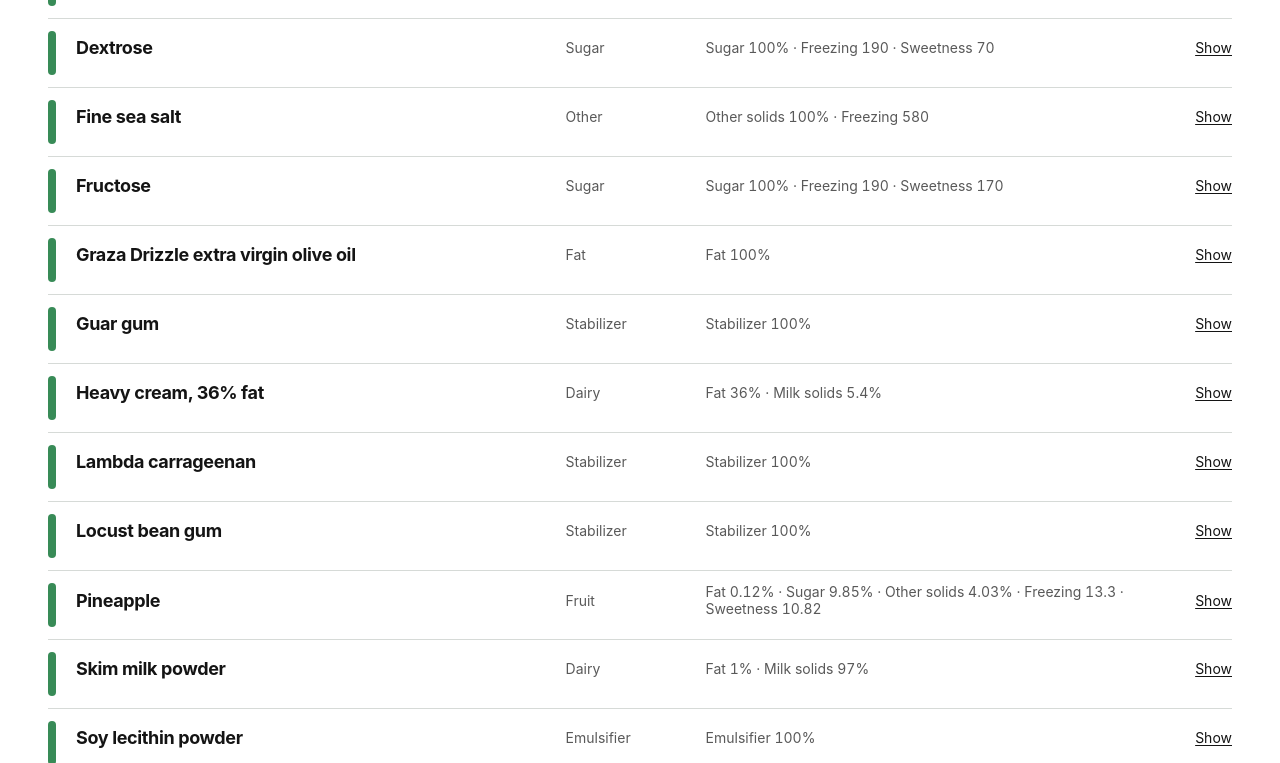
Test: opening an entry › Heavy cream: Fat 36% derived with its source, Milk solids · MSNF 5.4% estimated with not recorded, the facts and the lactose line
(page scrolled)
Click the button with class "ing__head" showing "Heavy cream, 36% fat Show" at (170, 392), box [76,370,1232,414]
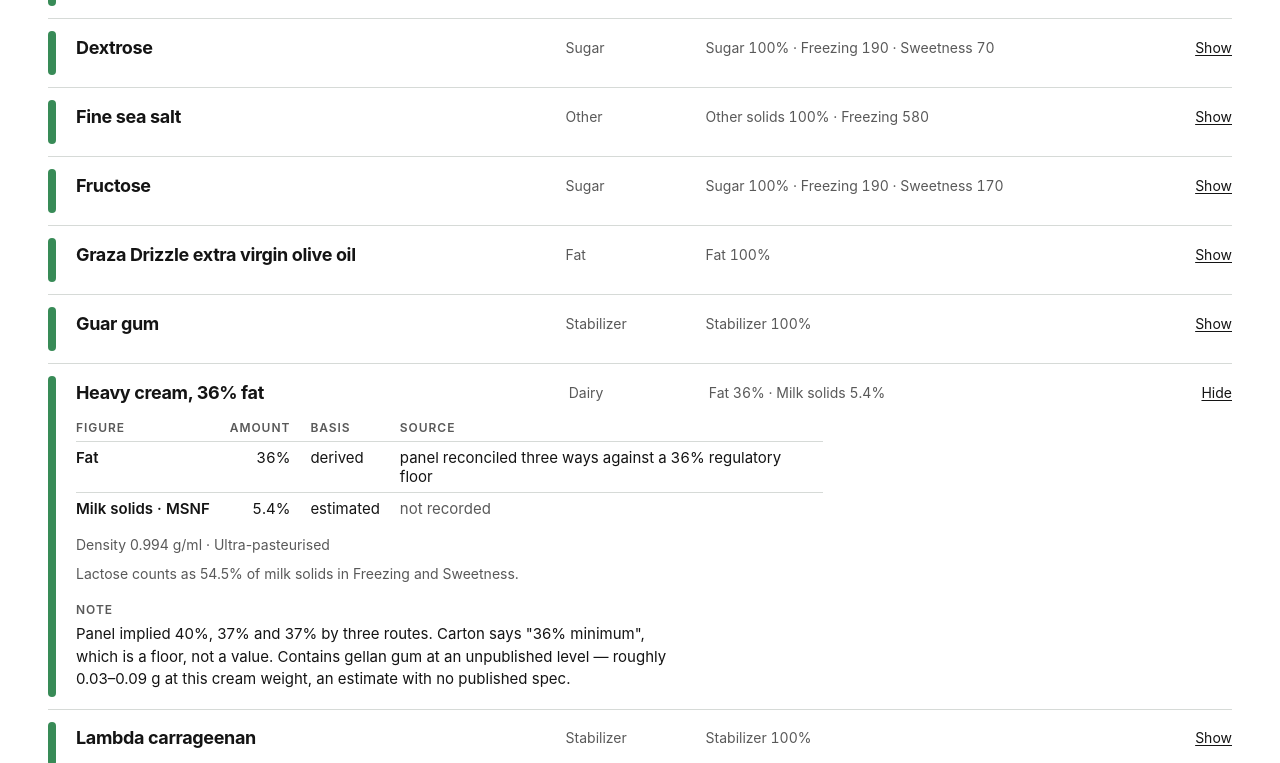
Expected: the text with class "ing__facts" reads "Density 0.994 g/ml · Ultra-pasteurised", [76,536,330,553]
Expected: the text with class "ing__helper" reads "Lactose counts as 54.5% of milk solids in Freezing and Sweetness.", [76,565,519,582]
Expected: the text with class "ing__note-cap" reads "Note", [76,602,113,617]
